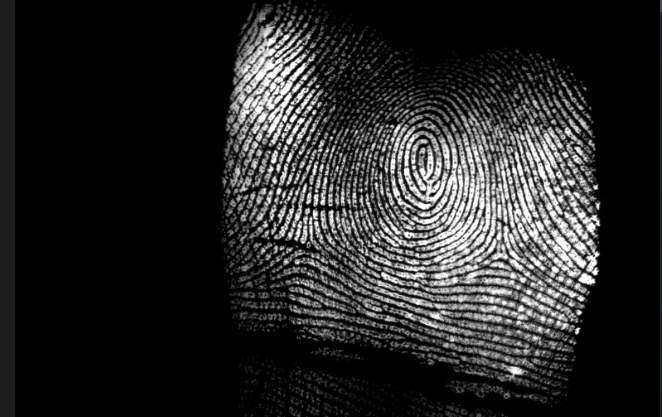deltas: (278, 216, 331, 263), (483, 228, 522, 277)
nucleo: (402, 134, 443, 182)
